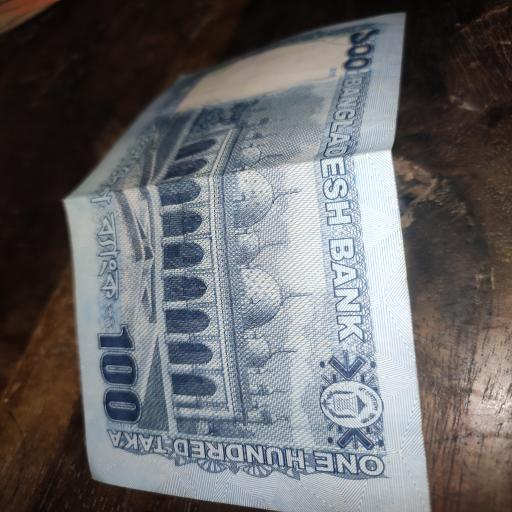100taka: (68, 14, 428, 510)
